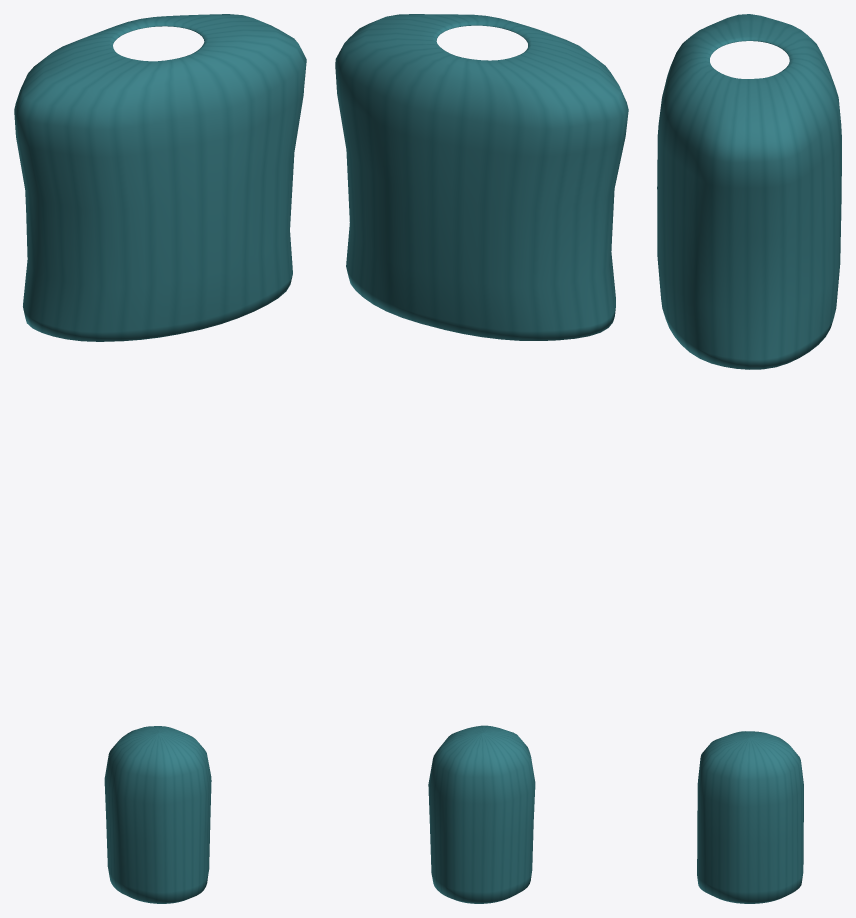
The model's file is fitted_tee.gltf.
3 renders of one model, left to right at view 1: azimuth 30°, elevation 25°; view 2: azimuth 150°, elevation 25°; view 3: azimuth 270°, elevation 25°, orthographic.
Parts seen in each view (by area): view 1: Torso, SleeveL; view 2: Torso, SleeveL; view 3: Torso, SleeveL.
Part boxes in pixels (x1,y1,x2,y2): Torso: [14, 14, 306, 341]; SleeveL: [104, 726, 211, 903]; Torso: [335, 14, 628, 340]; SleeveL: [428, 725, 535, 903]; Torso: [657, 14, 841, 369]; SleeveL: [697, 731, 803, 903].
Size of the model in its own units: 0.5276 by 1.53 by 0.3093.
Materials: 1 (1 with a texture image).
